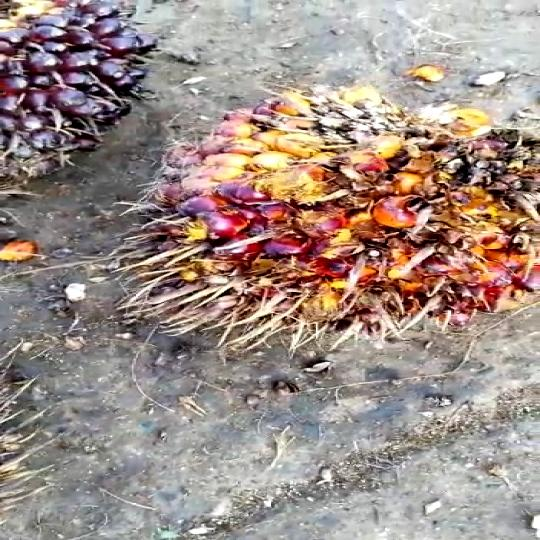masak: (160, 86, 540, 346)
